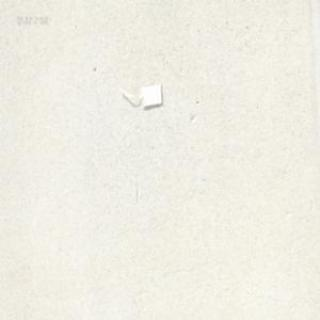LuggageTagtrack_idkeyframe: (116, 80, 162, 108)
